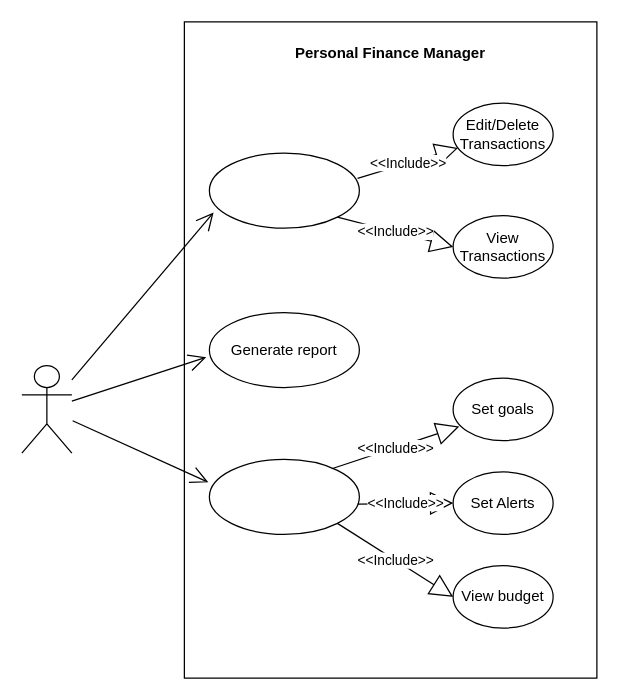
This 619x700 diagram has some shape labels left out. Each missing label, with the centre of its shape:
"Add Transaction" goes at pixel 283 190.
"Create Budget" goes at pixel 283 496.
"User" goes at pixel 46 408.
